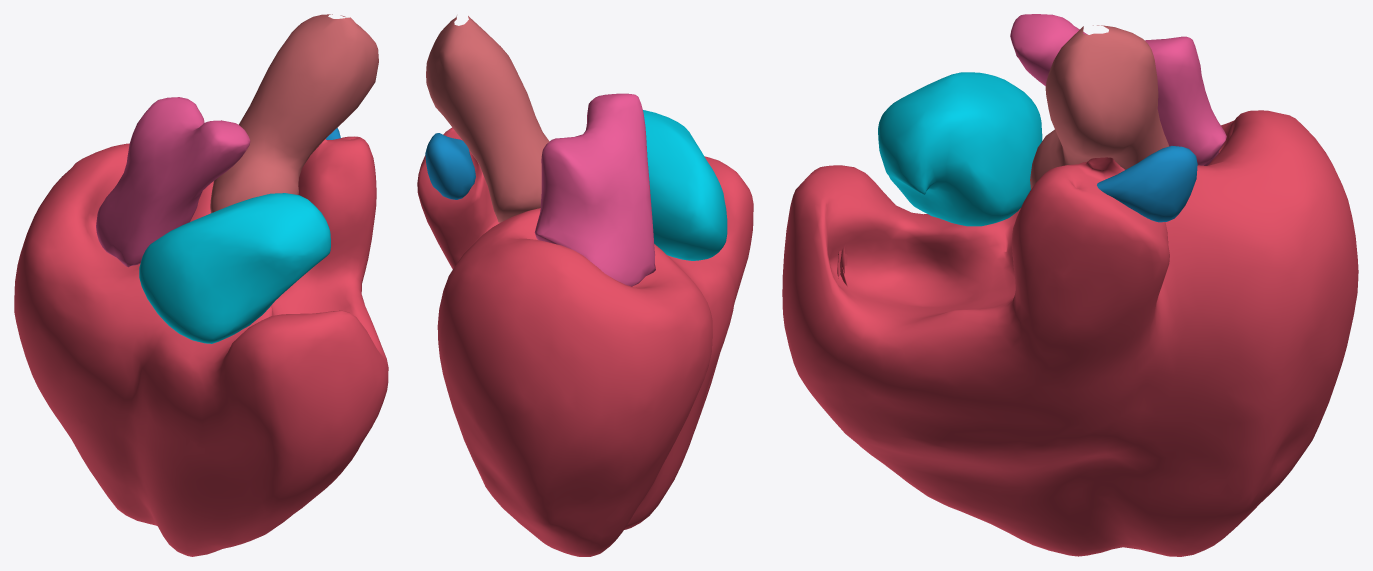
Rendered from frame_65.glb.
The picture shows the model from 3 angles, left to right: view 1: azimuth 30°, elevation 25°; view 2: azimuth 150°, elevation 25°; view 3: azimuth 270°, elevation 25°; orthographic projection. The views are drawn at different scales.
Visible parts, largest first — view 1: Renderer Node; view 2: Renderer Node; view 3: Renderer Node.
Part boxes in pixels (left/top/right/bottom): Renderer Node: left=14, top=14, right=388, bottom=556; Renderer Node: left=417, top=16, right=753, bottom=556; Renderer Node: left=782, top=14, right=1358, bottom=556.
Bounding box in the file's own units: 105 × 162 × 136.
